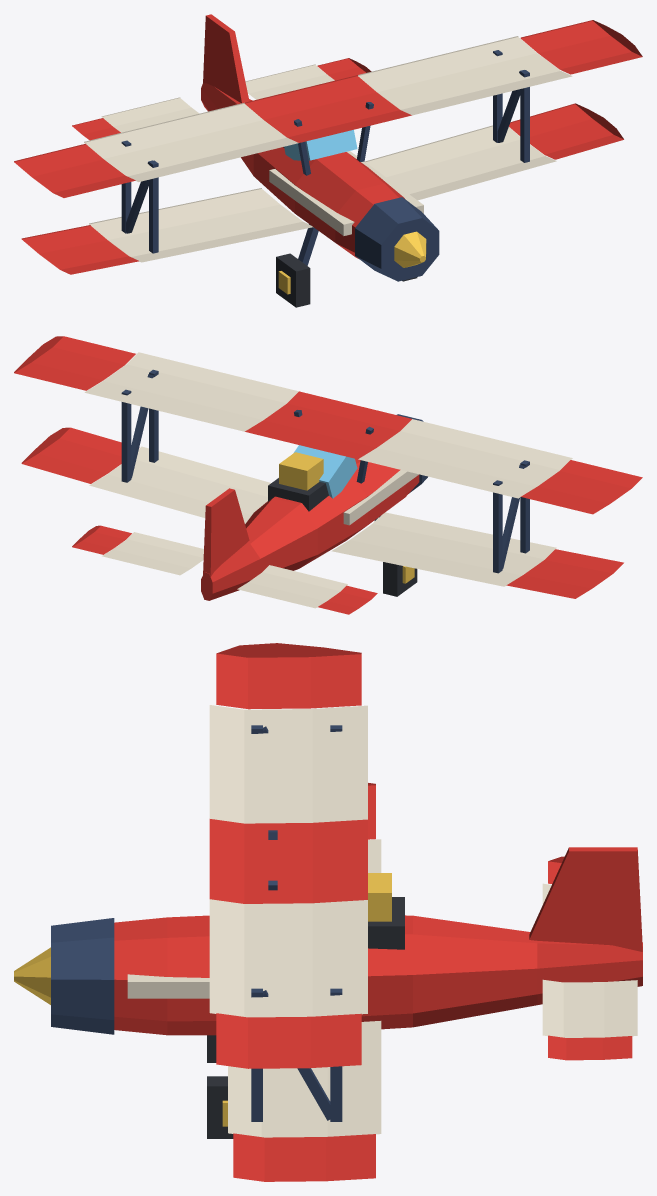
Rendered from biplane.glb.
3 renders of one model, top to bottom at view 1: azimuth 30°, elevation 25°; view 2: azimuth 150°, elevation 25°; view 3: azimuth 270°, elevation 25°, orthographic. The views are drawn at different scales.
Parts seen in each view (by area): view 1: Biplane; view 2: Biplane; view 3: Biplane.
Boxes of the visible parts, left/top/right/bottom form: Biplane: left=14, top=14, right=642, bottom=307; Biplane: left=14, top=336, right=642, bottom=614; Biplane: left=14, top=643, right=642, bottom=1181.
Bounding box in the file's own units: 3.68 × 1.04 × 2.38.
